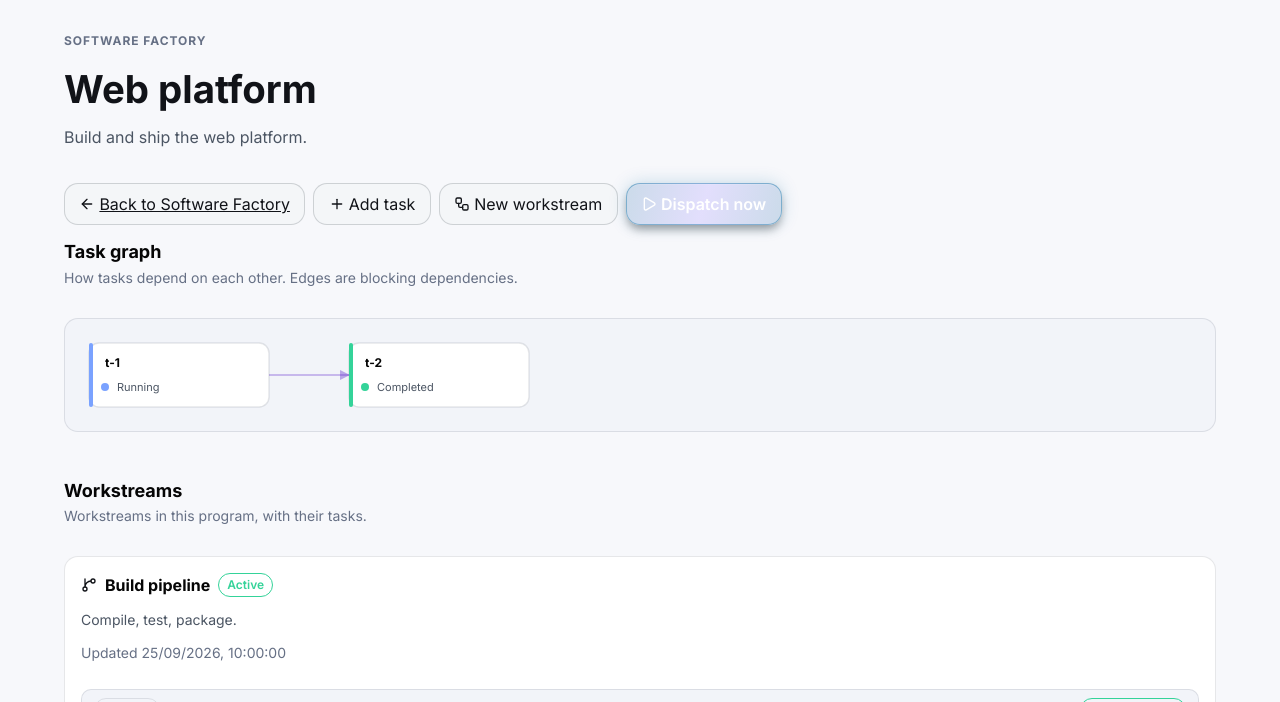
SoftwareFactoryProgramPage › adds a task with parsed dependency and environment requirements
The width and height of the screenshot is (1280, 702).
Click the button "Add task". click: (372, 204)
box: [313,183,431,225]
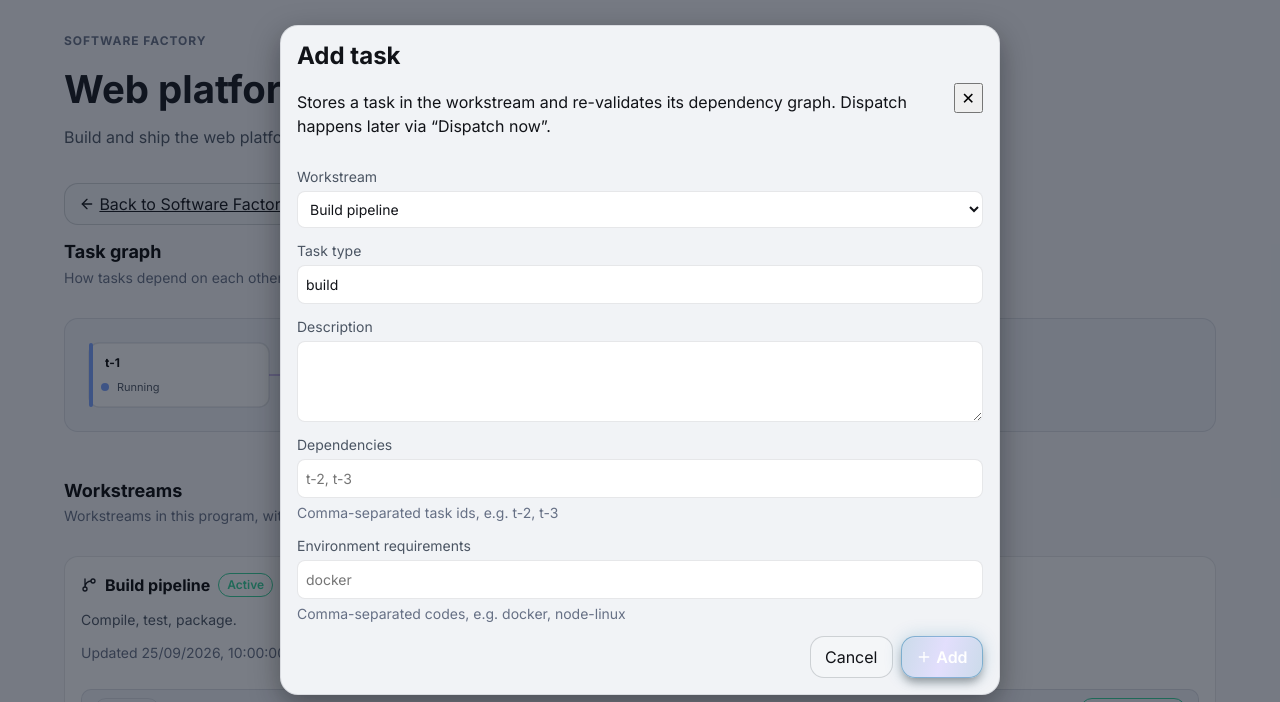
Type "Distribute the artifact" into the text box labelled "Description". click: (640, 382)
box: [297,341,983,422]
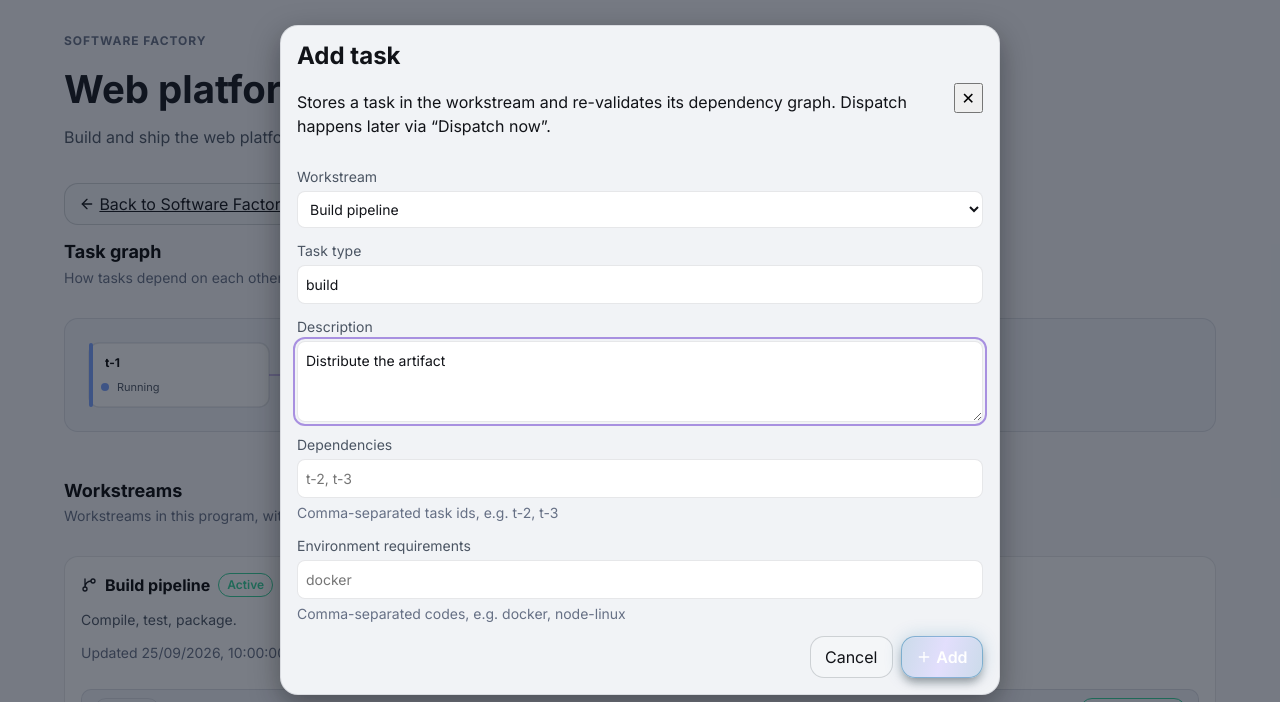
Type "t-1, t-2" into the field labelled "Dependencies Comma-separated task ids, e.g. t-2, t-3". click: (640, 479)
box: [297,459,983,498]
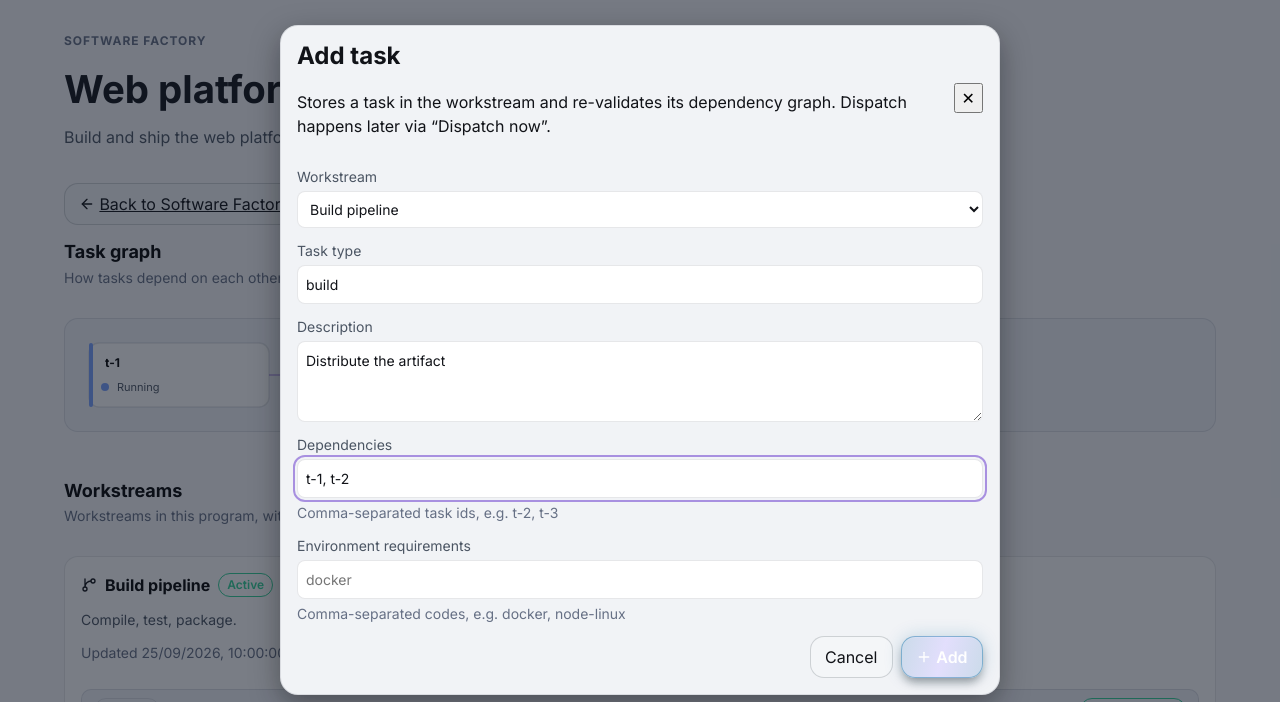
Type "docker, node-linux" into the field labelled "Environment requirements". click: (640, 580)
box: [297,560,983,599]
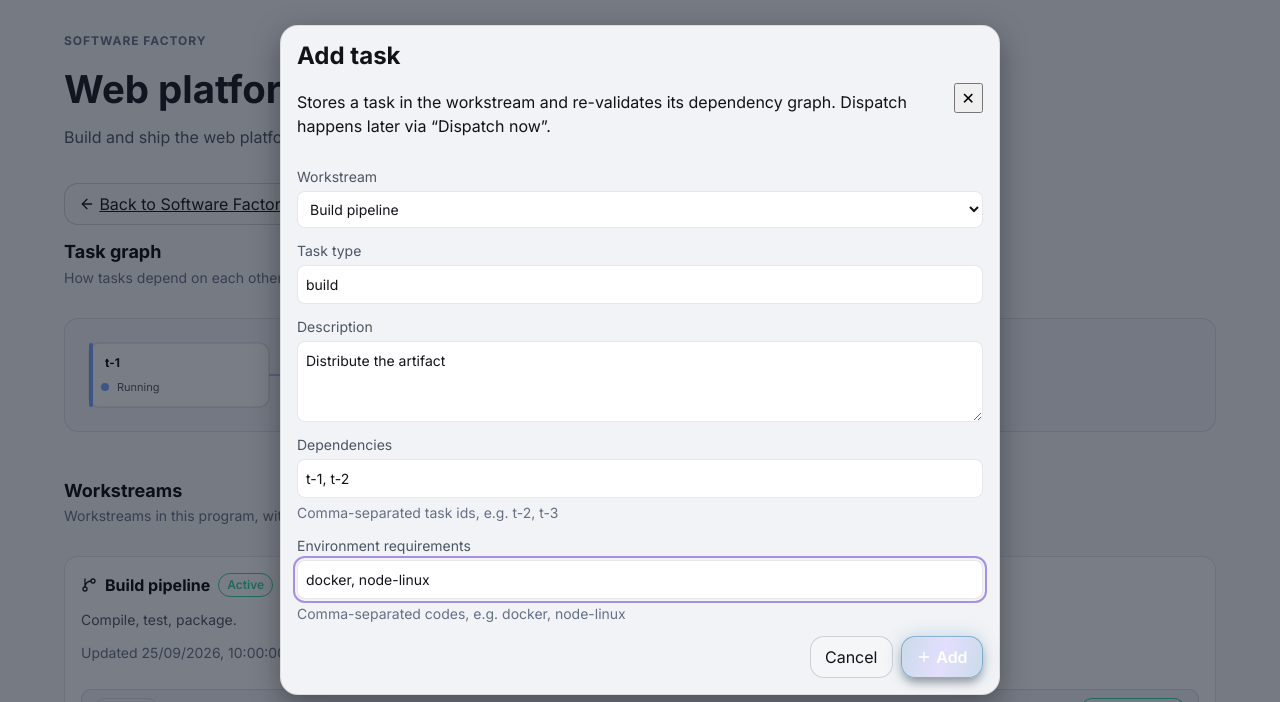
Click the button "Add". click: (942, 657)
box: [901,636,983,678]
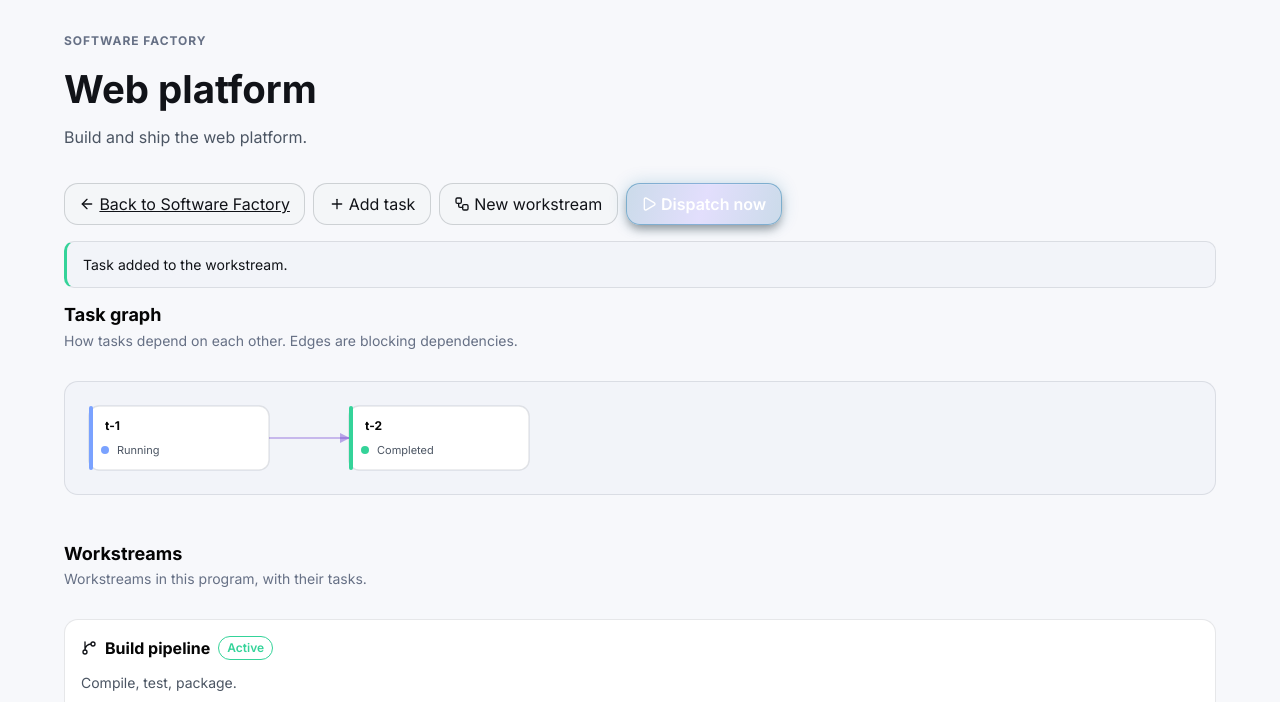
Result: the text "Task added to the workstream." is shown at [64,241,1216,288]
